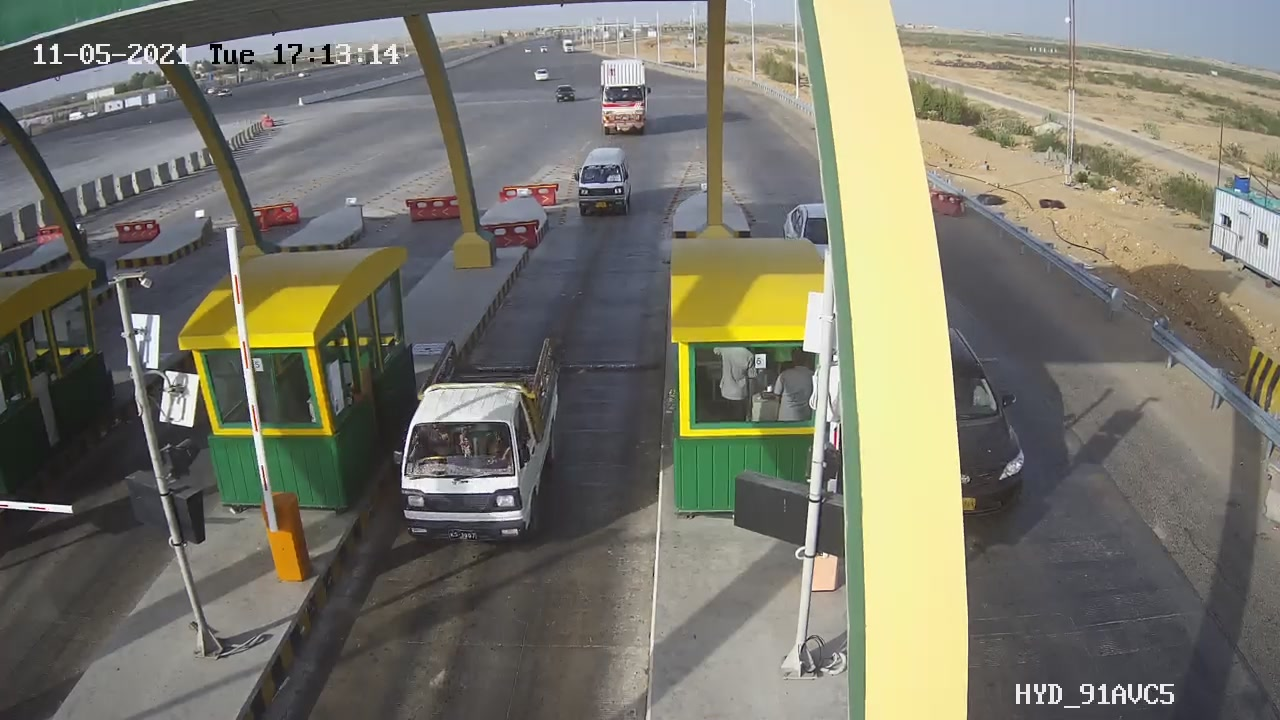F1: (377, 329, 582, 556)
